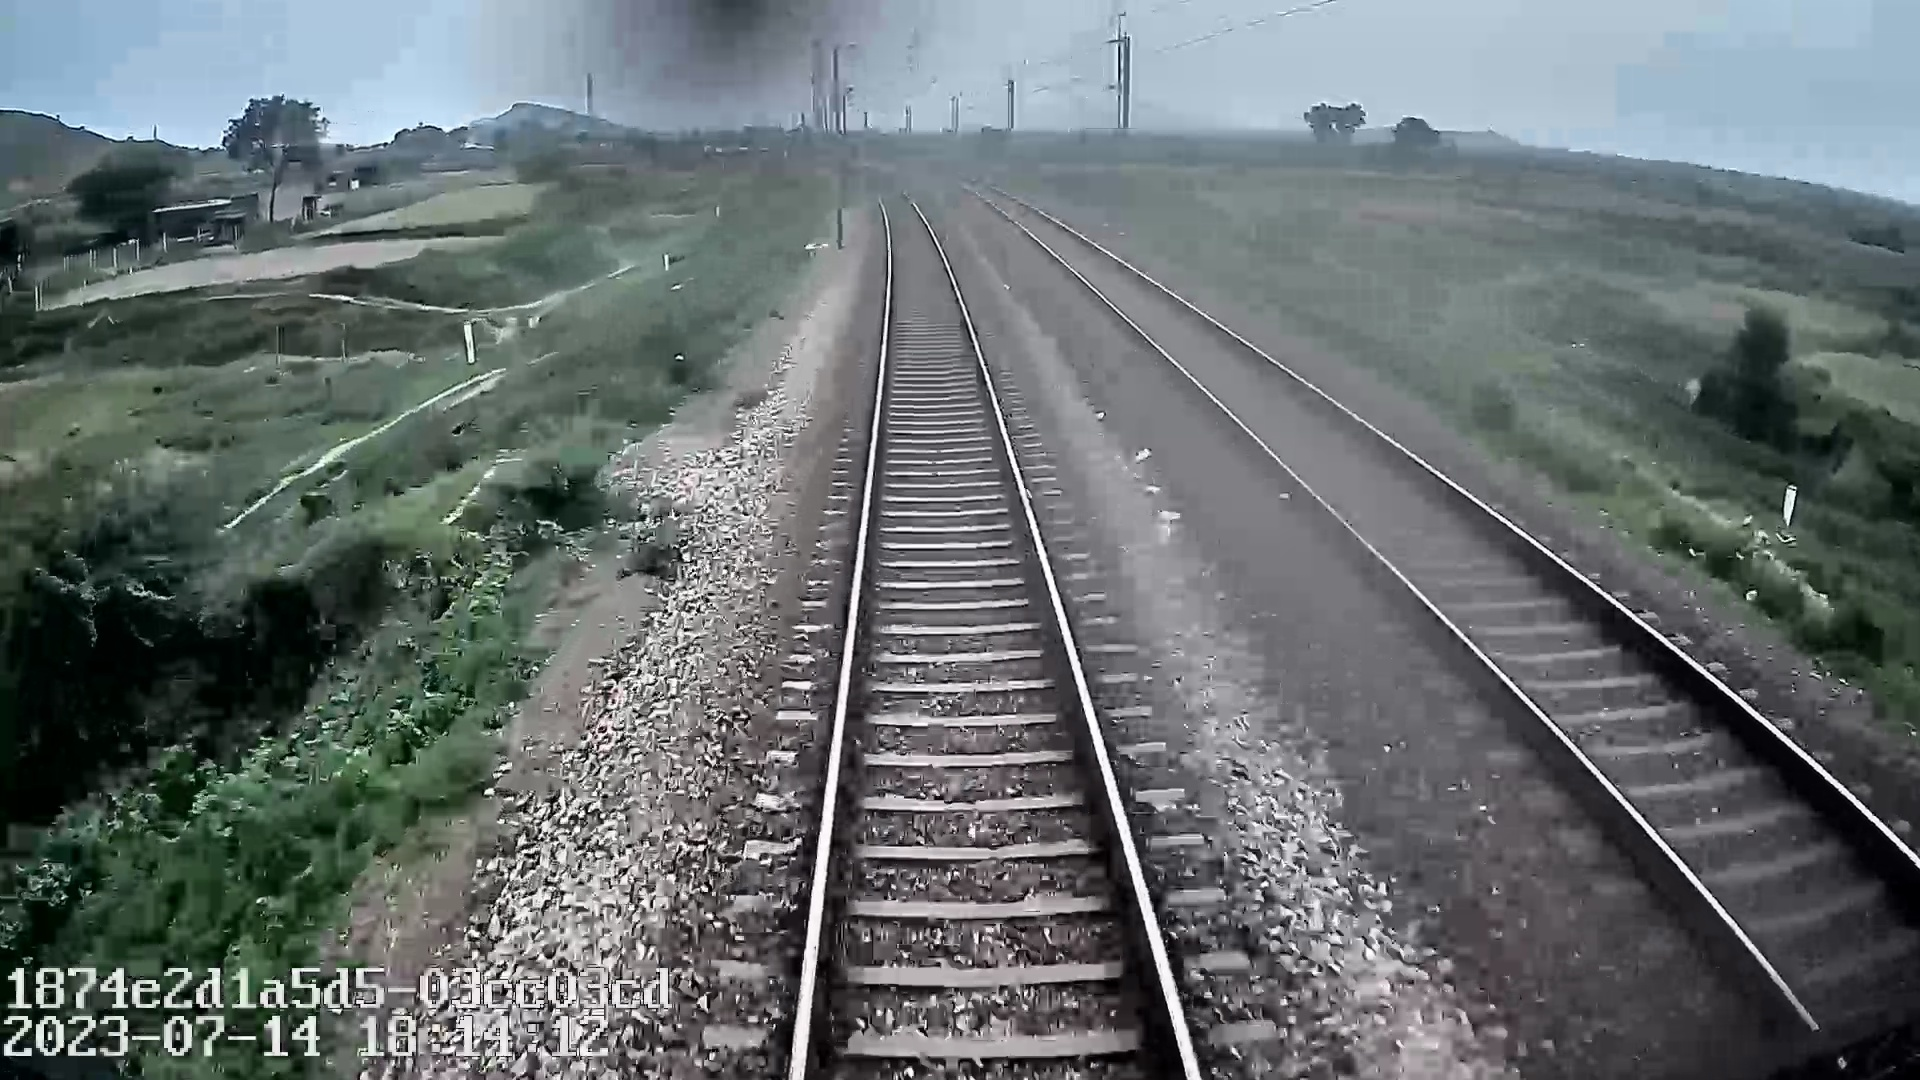track1: (800, 193, 1187, 1060)
track2: (977, 191, 1919, 1009)
